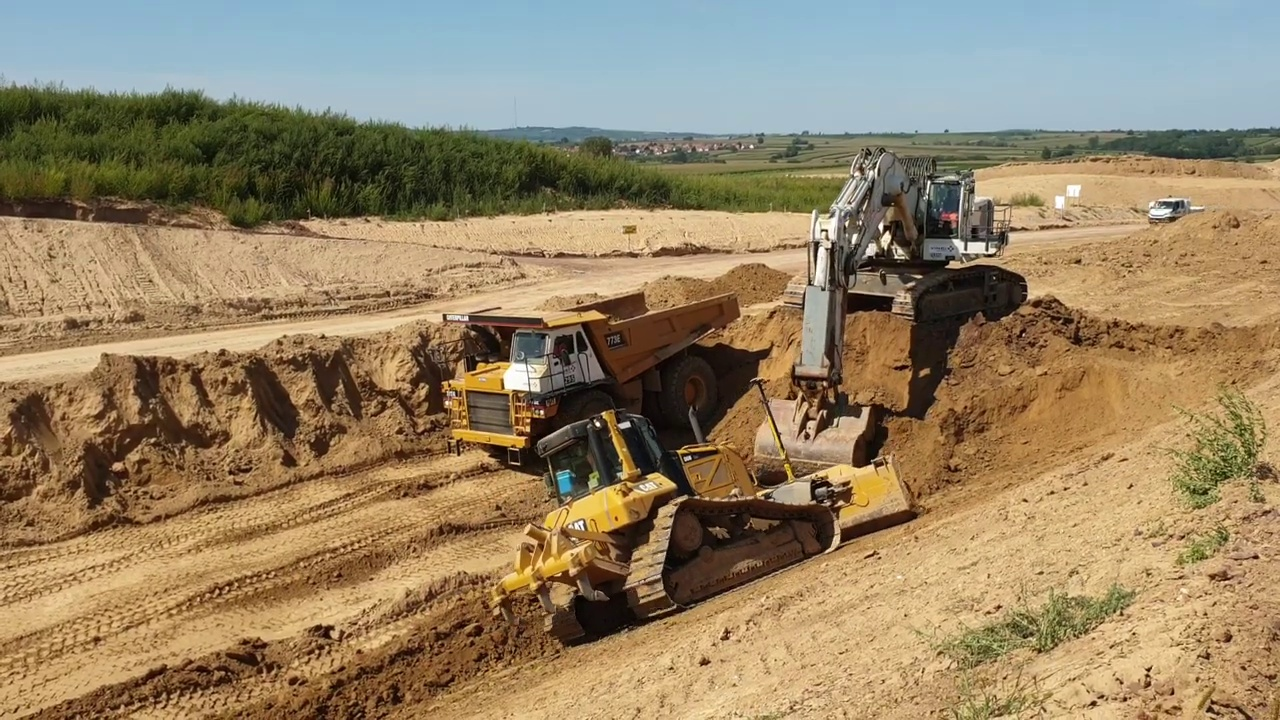bulldozer: (492, 378, 925, 654)
excavator: (752, 141, 1030, 486)
truck: (437, 285, 742, 478), (1143, 195, 1208, 231)
